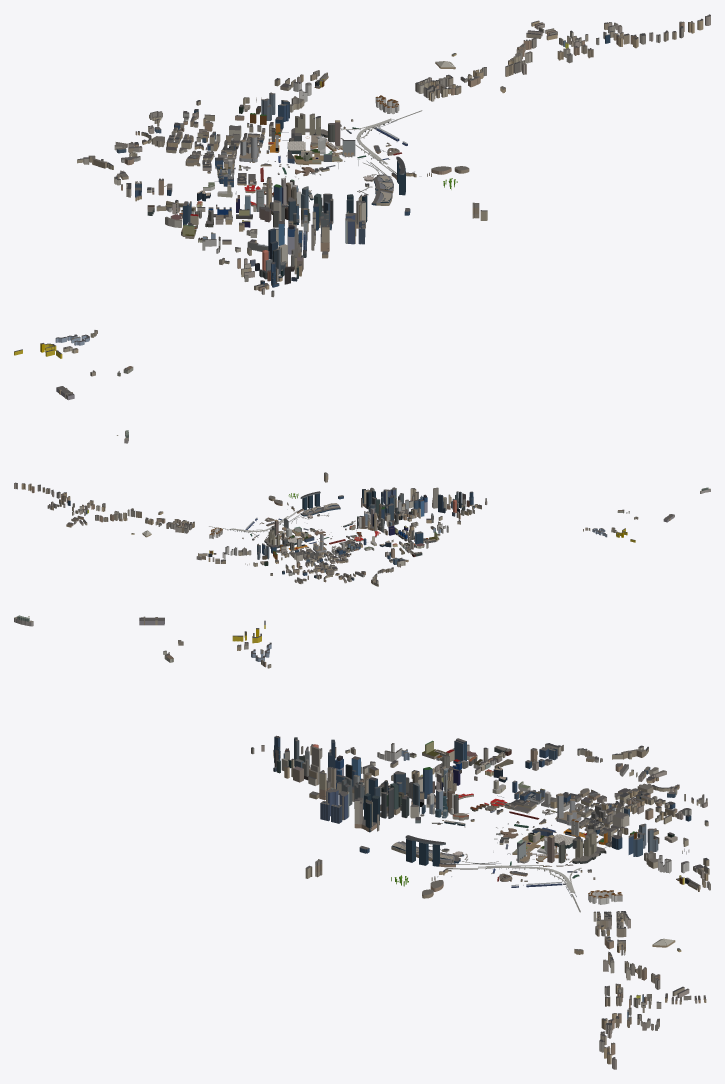
File: scenery.glb
The picture shows the model from 3 angles, top to bottom: view 1: azimuth 30°, elevation 25°; view 2: azimuth 150°, elevation 25°; view 3: azimuth 270°, elevation 25°; orthographic projection. The views are drawn at different scales.
Visible parts, largest first — view 1: chunk_15_14, chunk_11_19, chunk_12_16, chunk_12_18, chunk_13_17, chunk_13_14, chunk_15_13, chunk_13_13, chunk_11_16, chunk_13_18, chunk_15_12, chunk_13_12; view 2: chunk_12_18, chunk_11_19, chunk_13_16, chunk_15_14, chunk_15_16, chunk_12_17, chunk_12_16, chunk_13_14, chunk_13_17, chunk_14_13, chunk_13_13, chunk_15_13 (+7 smaller); view 3: chunk_13_17, chunk_13_16, chunk_12_18, chunk_13_18, chunk_13_14, chunk_15_14, chunk_15_13, chunk_11_19, chunk_13_12, chunk_14_13, chunk_14_18, chunk_13_13 (+4 smaller).
Part boxes in pixels (bbox=[...]): chunk_15_14: bbox=[287, 120, 355, 163]; chunk_11_19: bbox=[255, 244, 301, 287]; chunk_12_16: bbox=[219, 181, 281, 227]; chunk_12_18: bbox=[275, 215, 329, 257]; chunk_13_17: bbox=[285, 186, 333, 231]; chunk_13_14: bbox=[215, 135, 263, 185]; chunk_15_13: bbox=[275, 113, 327, 143]; chunk_13_13: bbox=[194, 134, 246, 161]; chunk_11_16: bbox=[170, 201, 232, 231]; chunk_13_18: bbox=[312, 210, 364, 244]; chunk_15_12: bbox=[256, 92, 299, 124]; chunk_13_12: bbox=[171, 117, 215, 149]; chunk_12_18: bbox=[398, 488, 427, 518]; chunk_11_19: bbox=[443, 491, 473, 513]; chunk_13_16: bbox=[349, 508, 380, 531]; chunk_15_14: bbox=[271, 518, 305, 545]; chunk_15_16: bbox=[299, 491, 340, 519]; chunk_12_17: bbox=[386, 503, 418, 527]; chunk_12_16: bbox=[374, 507, 408, 539]; chunk_13_14: bbox=[313, 533, 358, 554]; chunk_13_17: bbox=[358, 496, 394, 523]; chunk_14_13: bbox=[280, 537, 318, 557]; chunk_13_13: bbox=[303, 541, 338, 564]; chunk_15_13: bbox=[264, 529, 292, 553]; chunk_13_17: bbox=[369, 773, 424, 823]; chunk_13_16: bbox=[420, 768, 468, 820]; chunk_12_18: bbox=[319, 755, 371, 800]; chunk_13_18: bbox=[320, 776, 371, 821]; chunk_13_14: bbox=[509, 791, 581, 825]; chunk_15_14: bbox=[516, 835, 572, 863]; chunk_15_13: bbox=[569, 829, 622, 863]; chunk_11_19: bbox=[273, 735, 318, 780]; chunk_13_12: bbox=[619, 792, 675, 820]; chunk_14_13: bbox=[563, 810, 621, 843]; chunk_14_18: bbox=[331, 793, 379, 832]; chunk_13_13: bbox=[567, 797, 623, 824].
Size of the model in its own units: 8480 by 310 by 5554.
